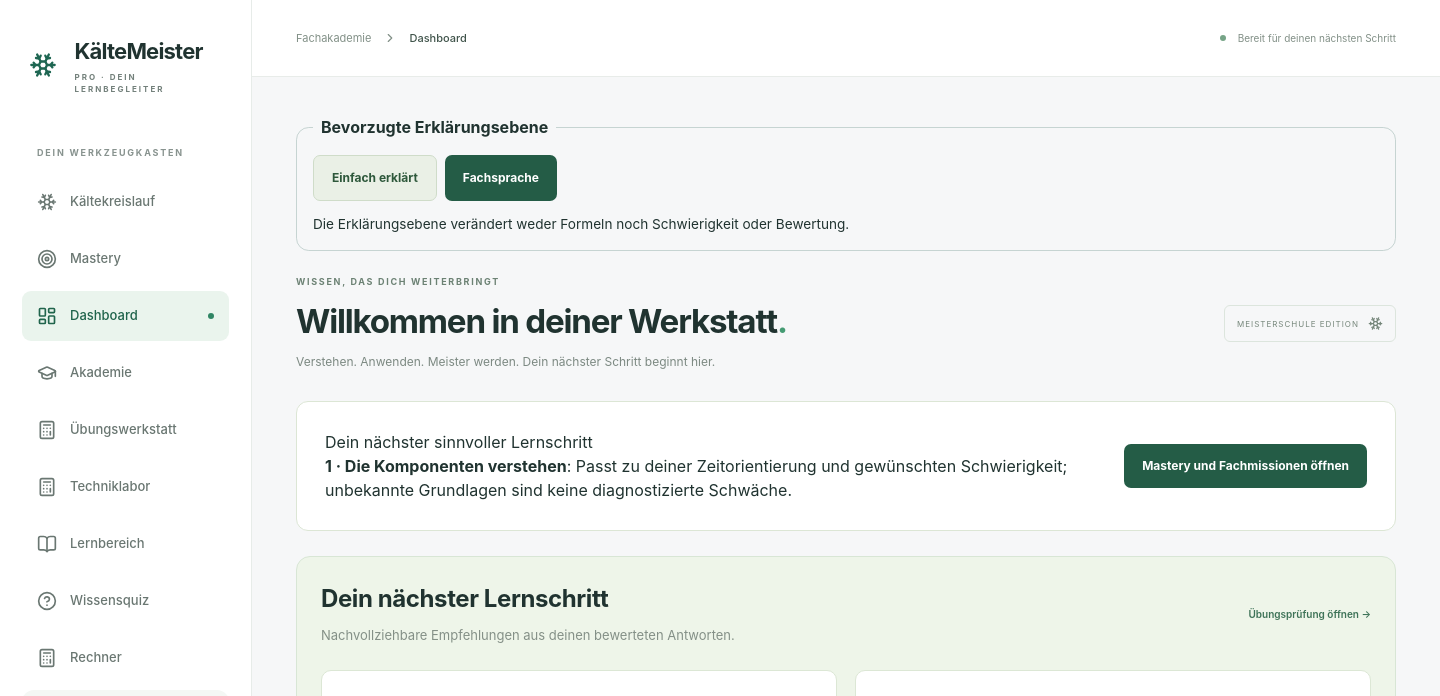
Test case: verlangt zuerst das Umdrehen und speichert anschließend den Wiederholungstermin
What coordinates should you click on to do the following:
click the button "Akademie"
I would click on:
 (126, 372)
Its box is 22,348 -> 229,398.
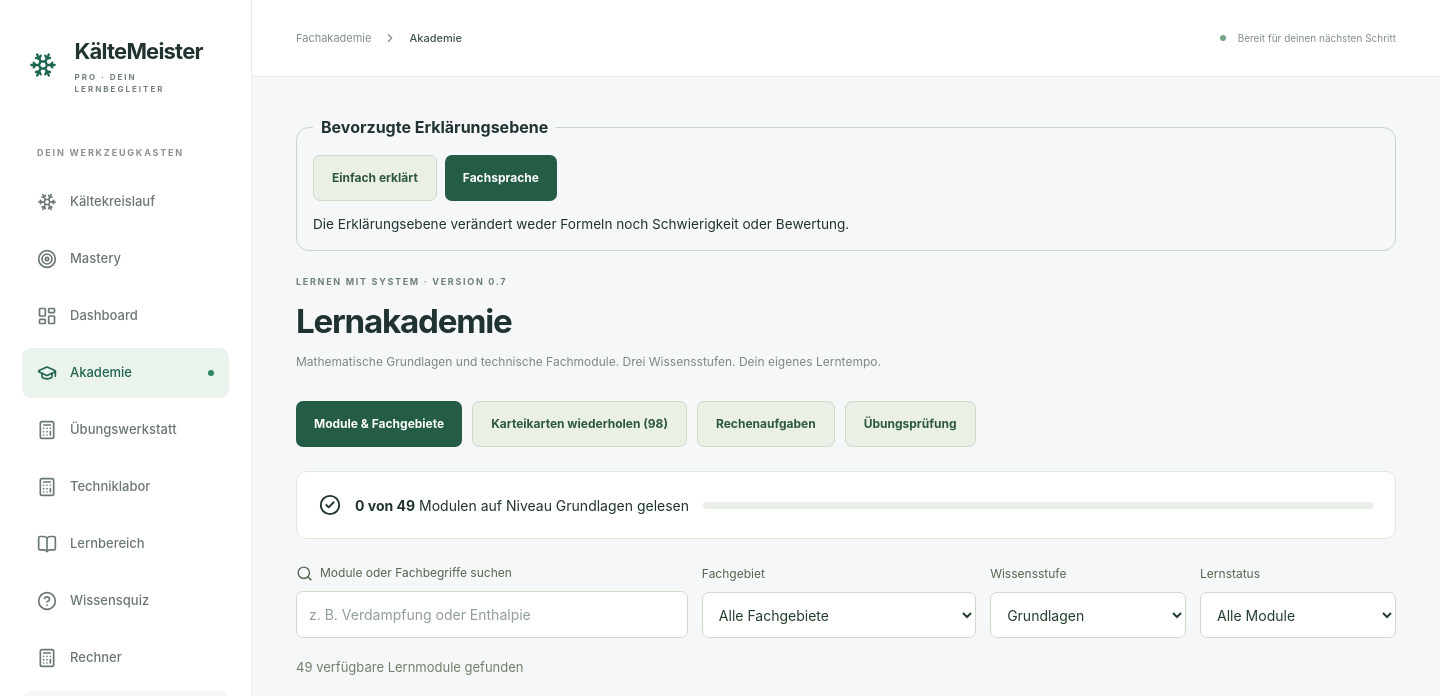
What coordinates should you click on to do the following:
click the button "Karteikarten wiederholen (98)"
I would click on:
 (580, 424)
Its box is 472,402 -> 687,448.
(page scrolled)
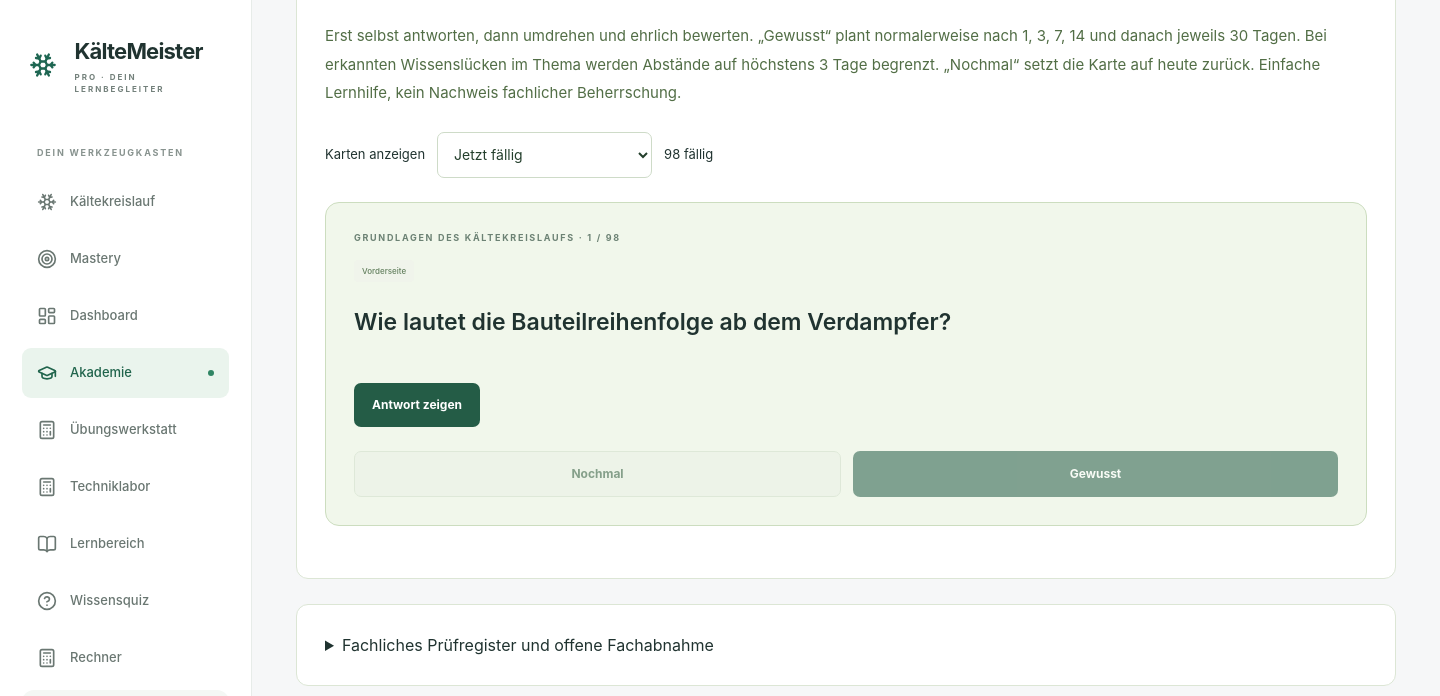
Expected: the button "Gewusst" is disabled, 853,451 -> 1338,497
What coordinates should you click on to do the following:
click the button "Antwort zeigen"
I would click on:
 (417, 405)
Its box is 354,383 -> 480,427.
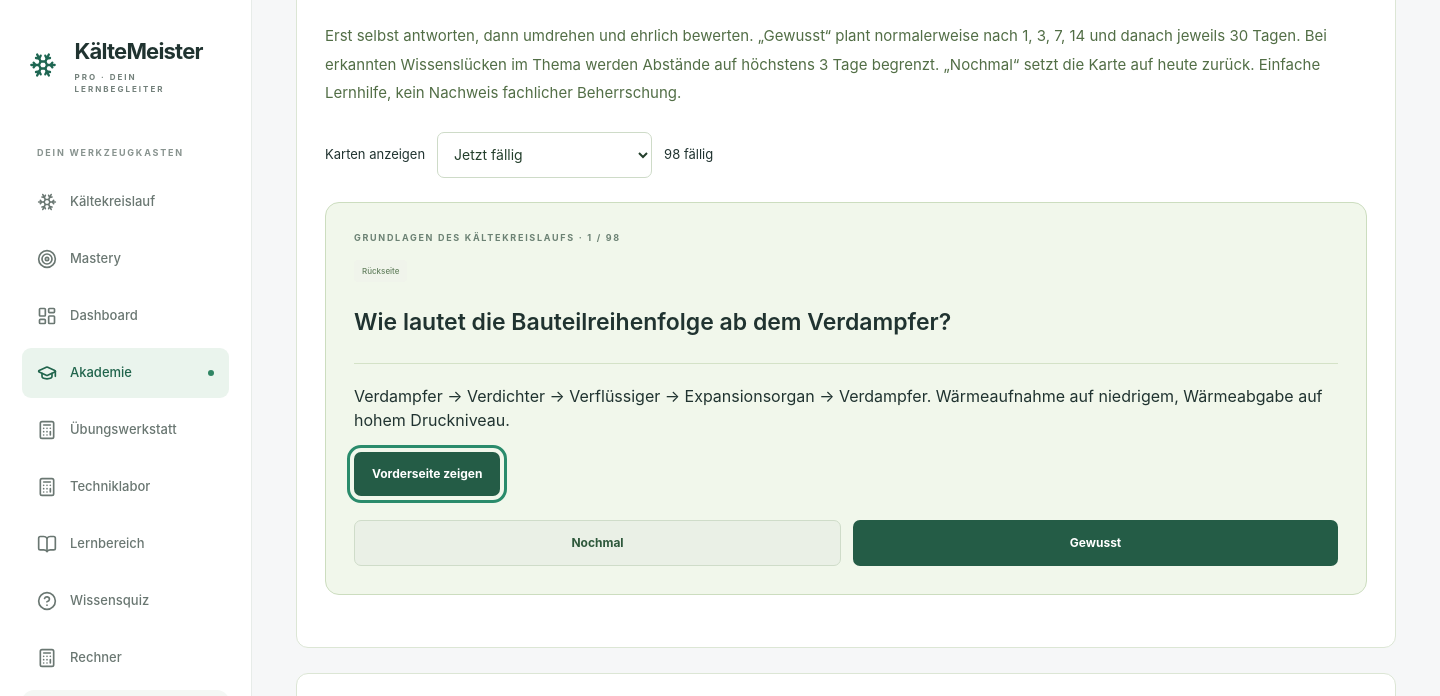
What coordinates should you click on to do the following:
click the button "Gewusst"
I would click on:
 (1096, 543)
Its box is 853,520 -> 1338,566.
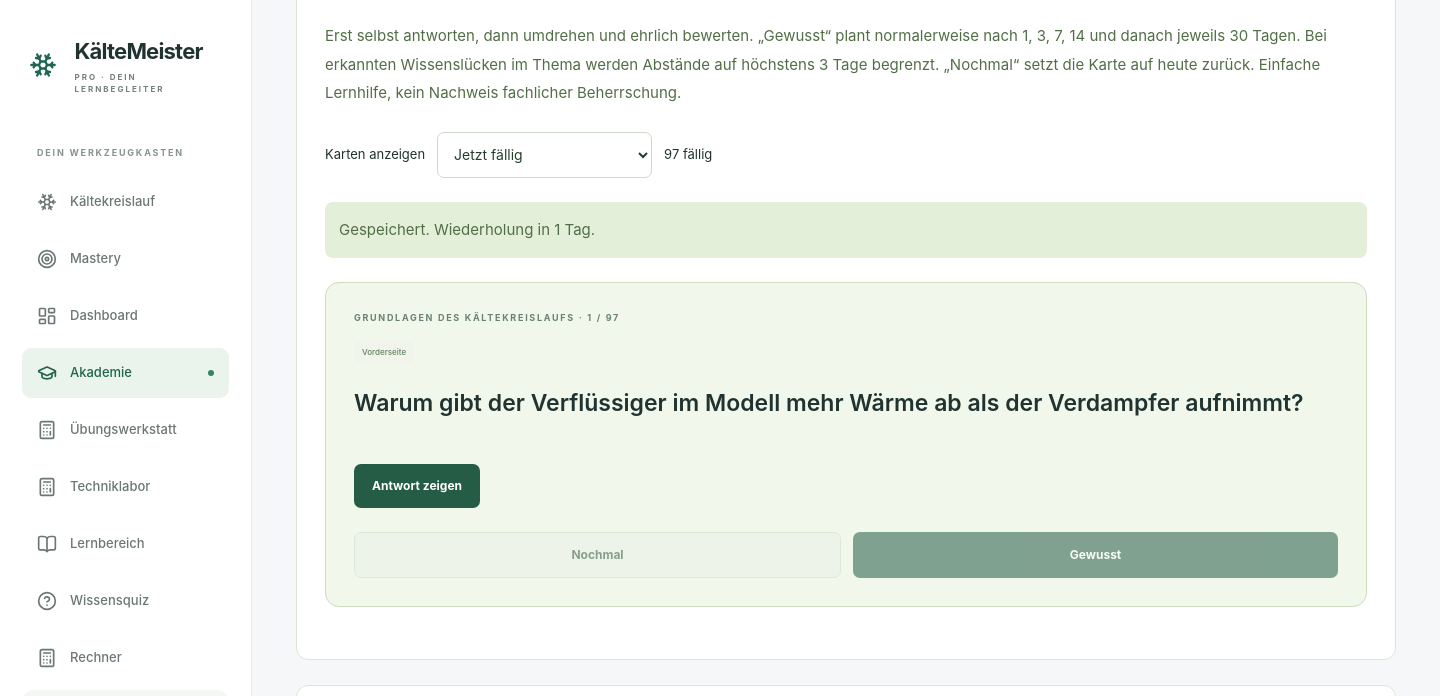
Expected: the message shows "Wiederholung in 1 Tag", 339,220 -> 595,239
